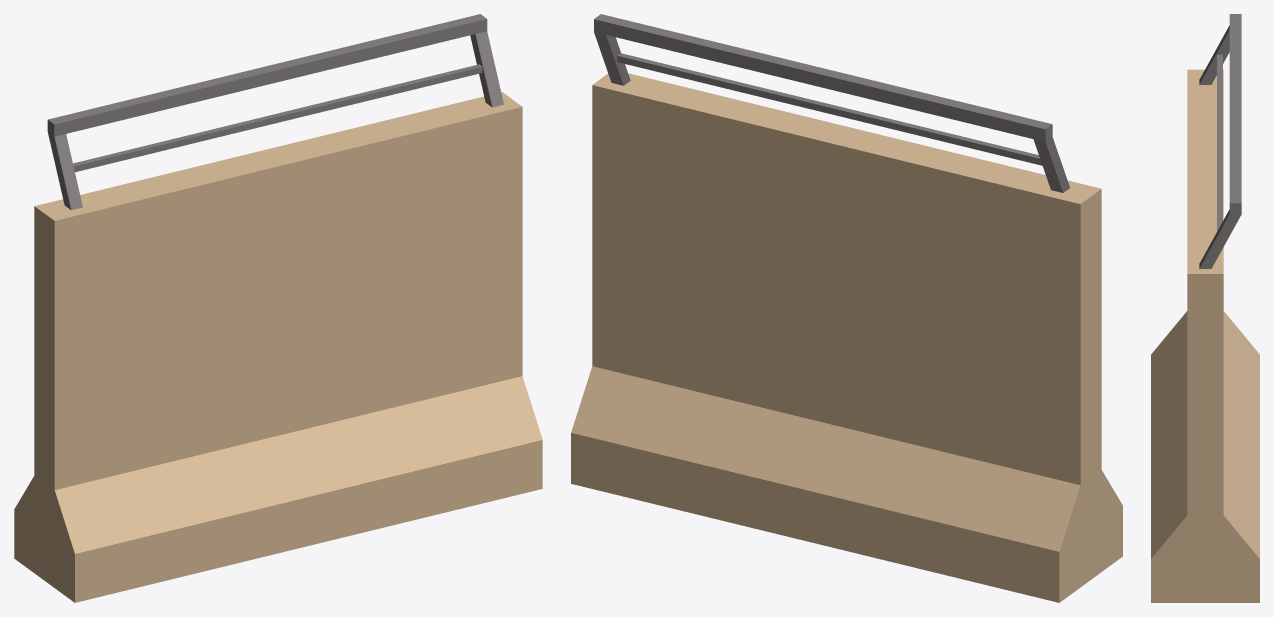
The model's file is military-military-wall.glb.
3 renders of one model, left to right at view 1: azimuth 30°, elevation 25°; view 2: azimuth 150°, elevation 25°; view 3: azimuth 270°, elevation 25°, orthographic. The views are drawn at different scales.
Visible parts, largest first — view 1: military-wall; view 2: military-wall; view 3: military-wall.
Boxes of the visible parts, x1=… form: military-wall: x1=14, y1=14, x2=542, y2=602; military-wall: x1=571, y1=14, x2=1122, y2=602; military-wall: x1=1151, y1=14, x2=1259, y2=602.
Bounding box in the file's own units: 4 × 3.6 × 0.9.
